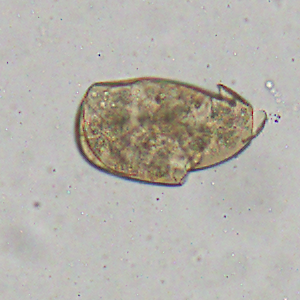Fasciola_hepatica_egg: (73, 75, 270, 188)
